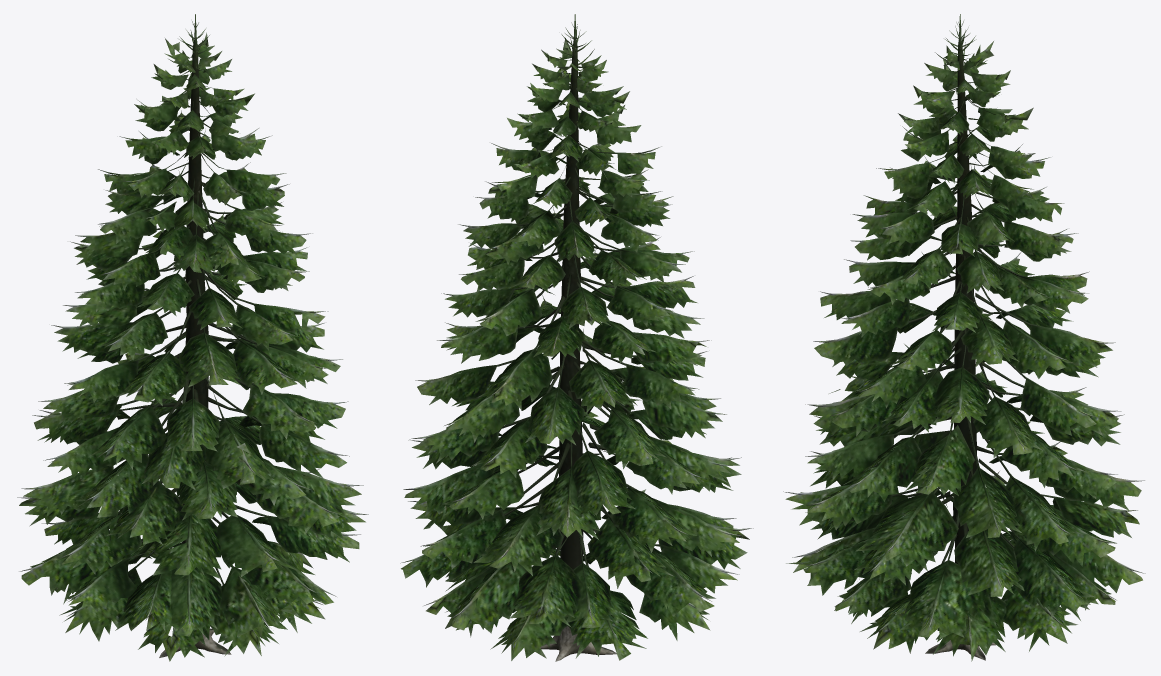
The model's file is fir.glb.
3 renders of one model, left to right at view 1: azimuth 30°, elevation 25°; view 2: azimuth 150°, elevation 25°; view 3: azimuth 270°, elevation 25°, orthographic.
Parts seen in each view (by area): view 1: tripo_node_4932ee83-fc21-4508-90e3-4417283f1511; view 2: tripo_node_4932ee83-fc21-4508-90e3-4417283f1511; view 3: tripo_node_4932ee83-fc21-4508-90e3-4417283f1511.
Boxes of the visible parts, left/top/right/bottom form: tripo_node_4932ee83-fc21-4508-90e3-4417283f1511: left=17, top=14, right=368, bottom=661; tripo_node_4932ee83-fc21-4508-90e3-4417283f1511: left=400, top=14, right=753, bottom=661; tripo_node_4932ee83-fc21-4508-90e3-4417283f1511: left=783, top=14, right=1145, bottom=661.
Bounding box in the file's own units: 0.5112 × 0.9995 × 0.5239.
1 material, 1 textured.
